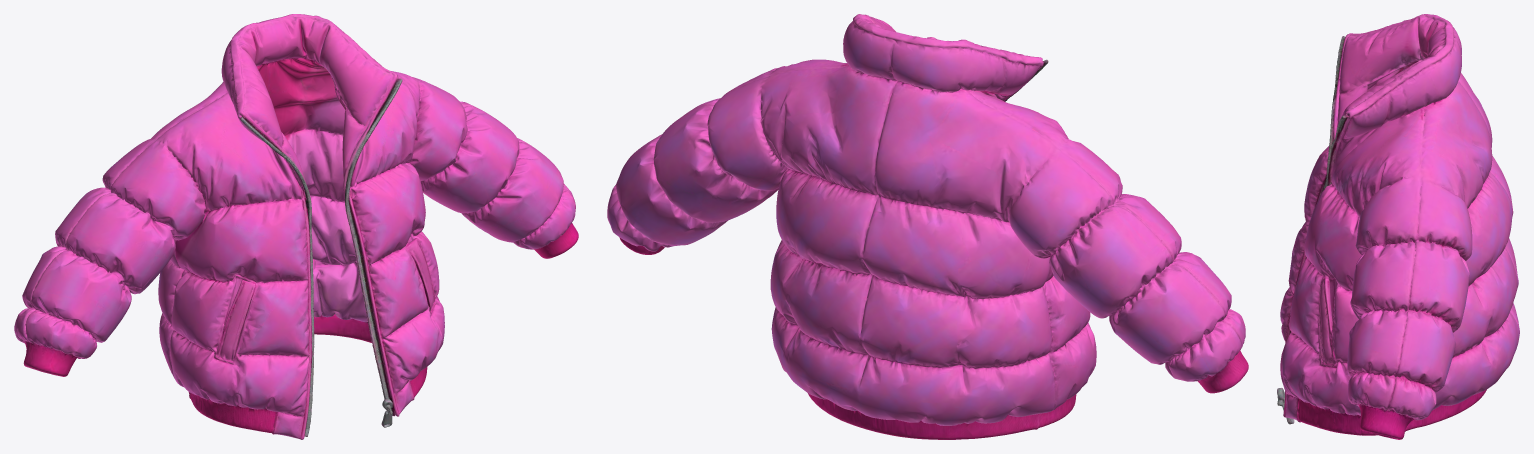
Rendered from puffer-pink-bubblegum.glb.
3 renders of one model, left to right at view 1: azimuth 30°, elevation 25°; view 2: azimuth 150°, elevation 25°; view 3: azimuth 270°, elevation 25°, orthographic. The views are drawn at different scales.
Bounding box in the file's own units: 1.9 × 1.2 × 0.7094.
1 material, 1 textured.
